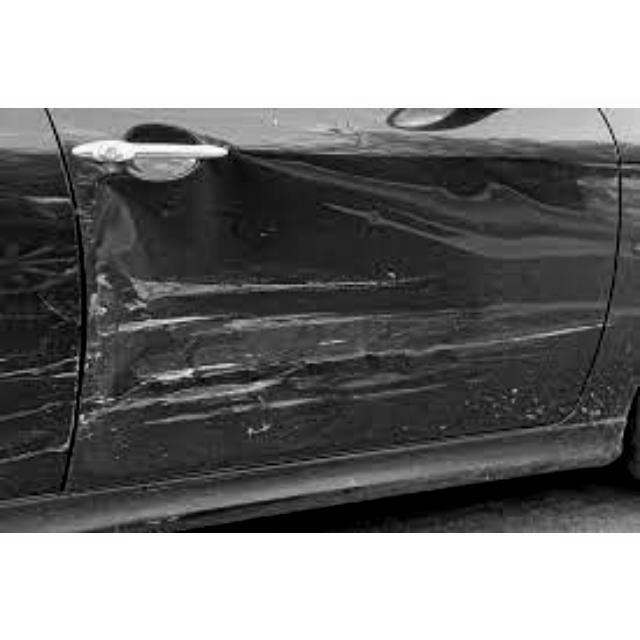doorouter-dent: (79, 107, 581, 425), (3, 108, 91, 501)
